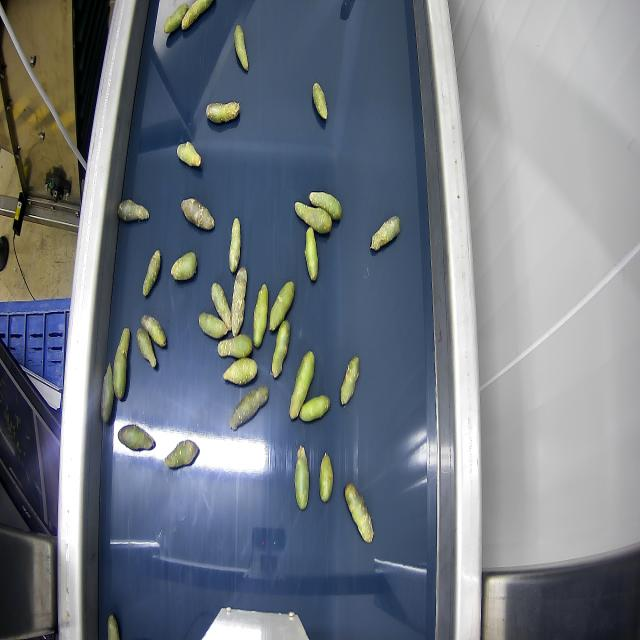Baby Potato: (289, 346, 319, 424), (342, 478, 376, 546), (228, 382, 271, 432), (268, 279, 298, 332), (117, 419, 157, 458), (113, 322, 132, 402), (270, 317, 292, 382), (210, 280, 236, 333), (178, 198, 216, 233), (298, 392, 336, 427), (369, 215, 403, 253), (294, 200, 333, 232), (340, 353, 362, 409), (293, 439, 310, 511), (231, 268, 249, 336), (163, 439, 201, 471), (141, 311, 173, 347), (309, 191, 346, 220), (222, 358, 259, 387), (253, 284, 269, 348), (141, 249, 162, 297), (100, 362, 114, 431), (318, 446, 334, 506), (182, 0, 215, 29), (136, 326, 157, 371), (232, 22, 250, 73), (171, 250, 198, 284), (196, 312, 230, 339), (226, 216, 242, 273), (216, 334, 254, 358), (119, 195, 150, 224), (304, 224, 319, 283), (162, 1, 189, 33), (205, 102, 241, 125), (312, 82, 330, 121), (177, 141, 202, 168), (108, 615, 118, 640)
